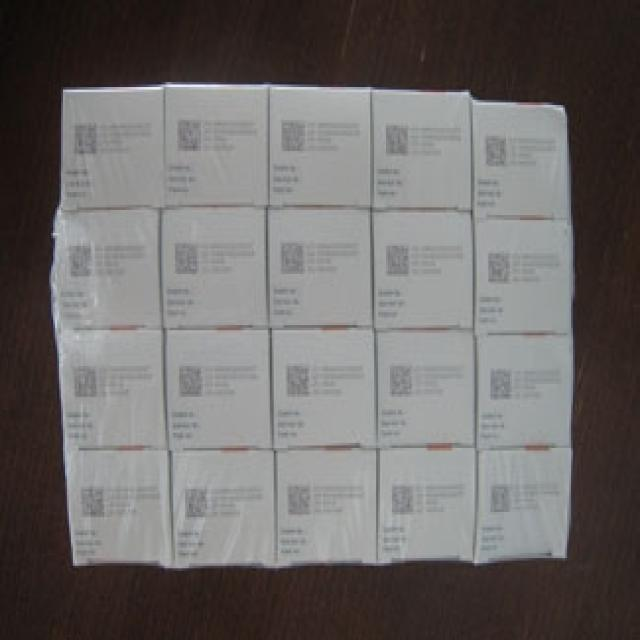datamatrix: (380, 118, 412, 158), (173, 112, 203, 154), (169, 238, 201, 277), (175, 361, 205, 402), (278, 238, 307, 279), (67, 241, 98, 279), (280, 115, 309, 154), (384, 243, 412, 282), (286, 481, 313, 520), (71, 118, 98, 156), (71, 361, 98, 399), (388, 361, 415, 399), (79, 484, 106, 522), (486, 366, 512, 405), (484, 248, 512, 284), (183, 484, 211, 520), (390, 479, 415, 517), (284, 361, 309, 397), (483, 133, 508, 167), (488, 481, 512, 515)
